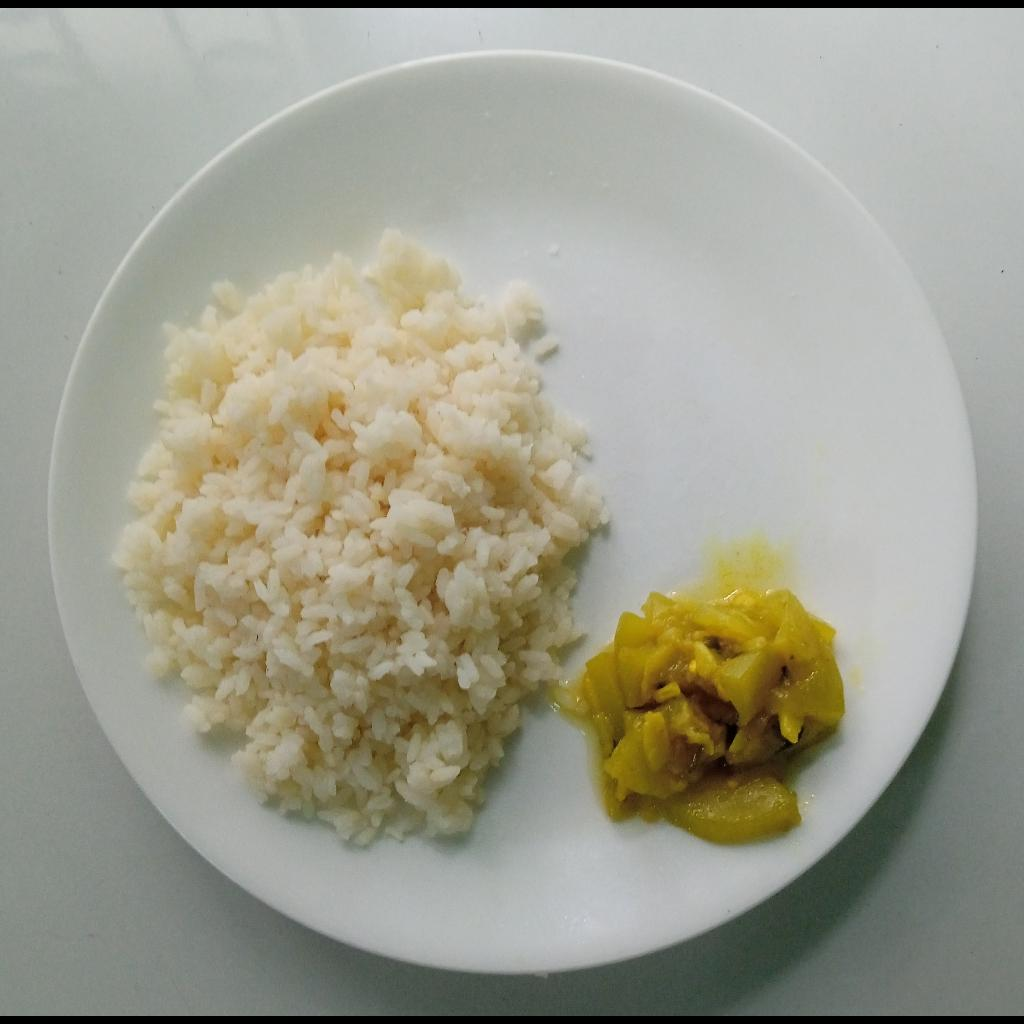lau: (580, 585, 844, 844)
rice: (106, 224, 614, 845)
